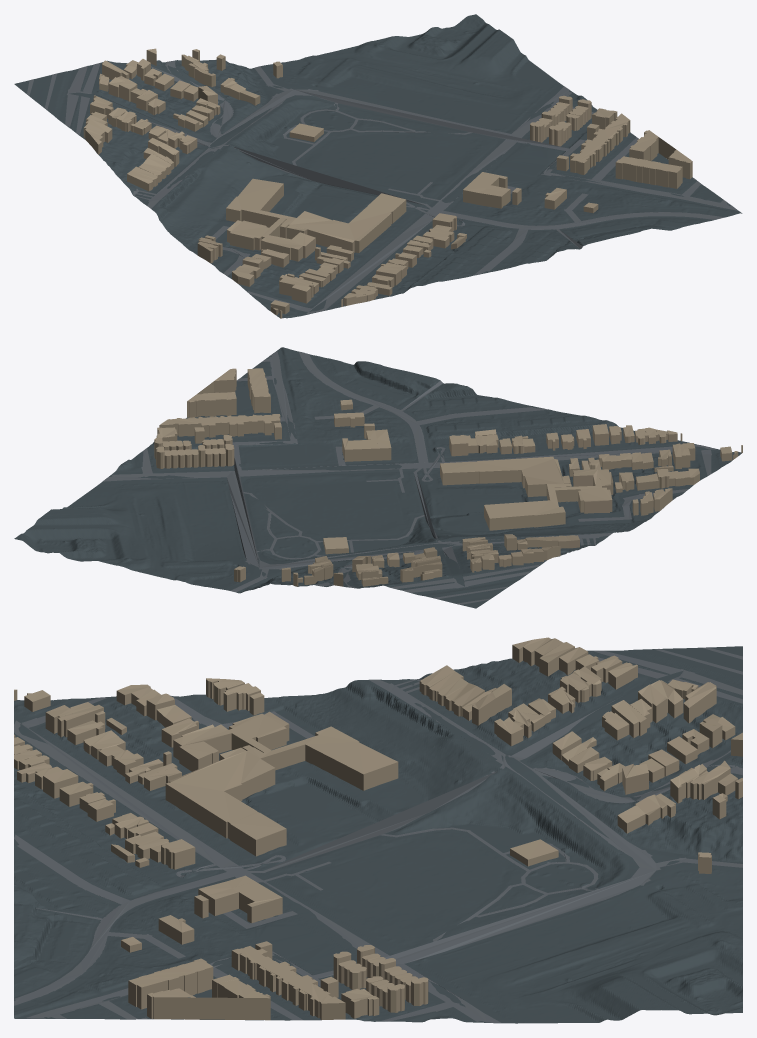
The model's file is epsg26910-1442-10871.lod0.glb.
3 views of the same model, one above another, from view 1: azimuth 30°, elevation 25°; view 2: azimuth 150°, elevation 25°; view 3: azimuth 270°, elevation 25° (orthographic). The views are drawn at different scales.
Visible parts, largest first — view 1: epsg26910-1442-10871-lod0; view 2: epsg26910-1442-10871-lod0; view 3: epsg26910-1442-10871-lod0.
Part boxes in pixels (x1=…): epsg26910-1442-10871-lod0: x1=14, y1=14, x2=742, y2=318; epsg26910-1442-10871-lod0: x1=14, y1=347, x2=742, y2=608; epsg26910-1442-10871-lod0: x1=14, y1=637, x2=742, y2=1023.
Size of the model in its own units: 384 by 49.06 by 384.
